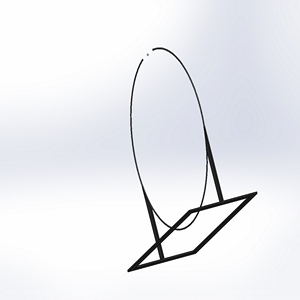circle: (124, 44, 259, 273)
